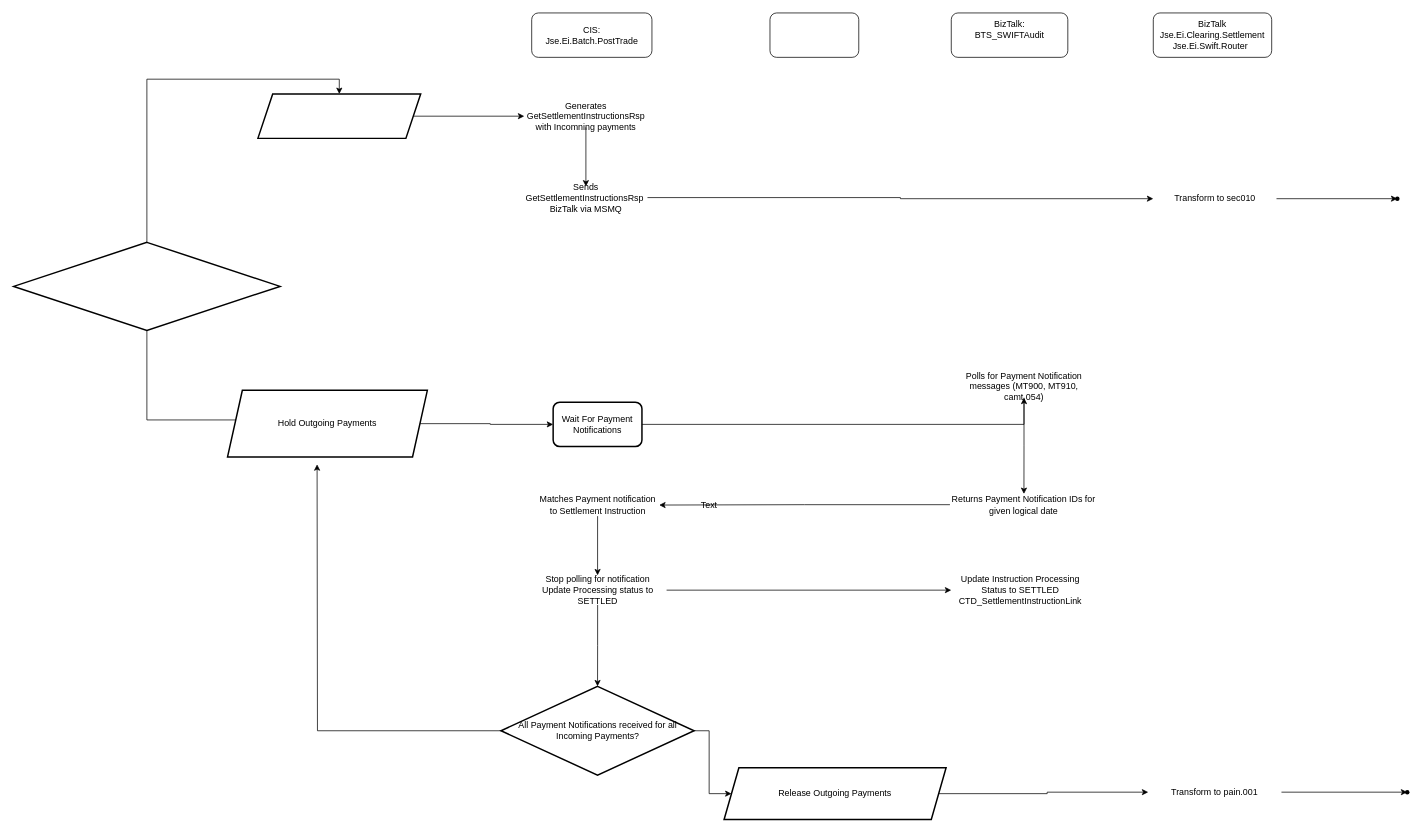
Image size: 1427x833. Some labels were removed from this diagram. The centre of each missing label's shape, as x and y in pixels:
CIS: ClearingVault: pixel 814 34
Incoming Payments: pixel 339 116
Outgoing or Incoming payments: pixel 146 286
